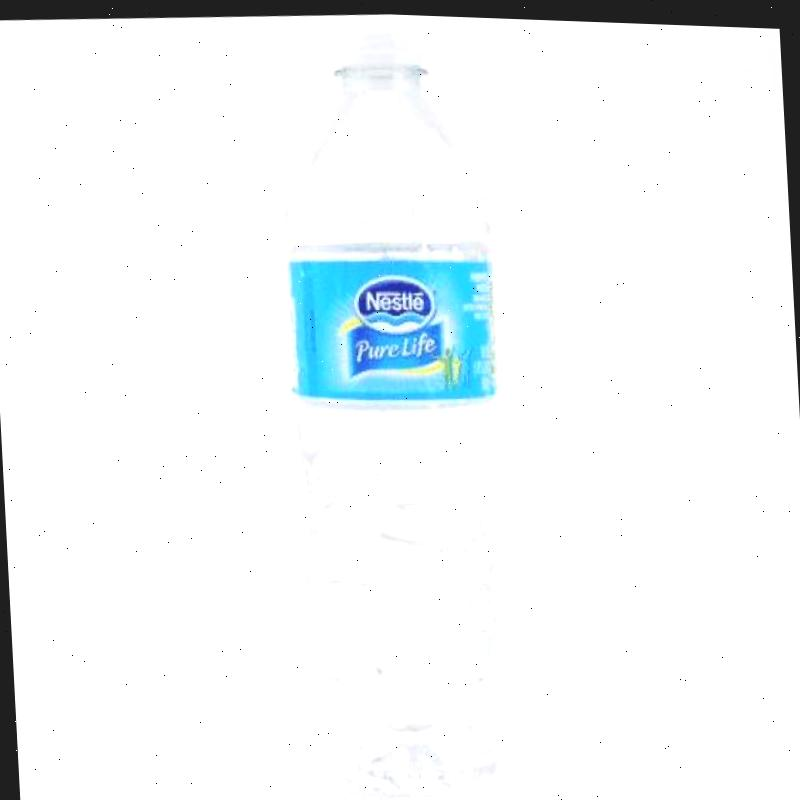botella: (270, 16, 516, 794)
